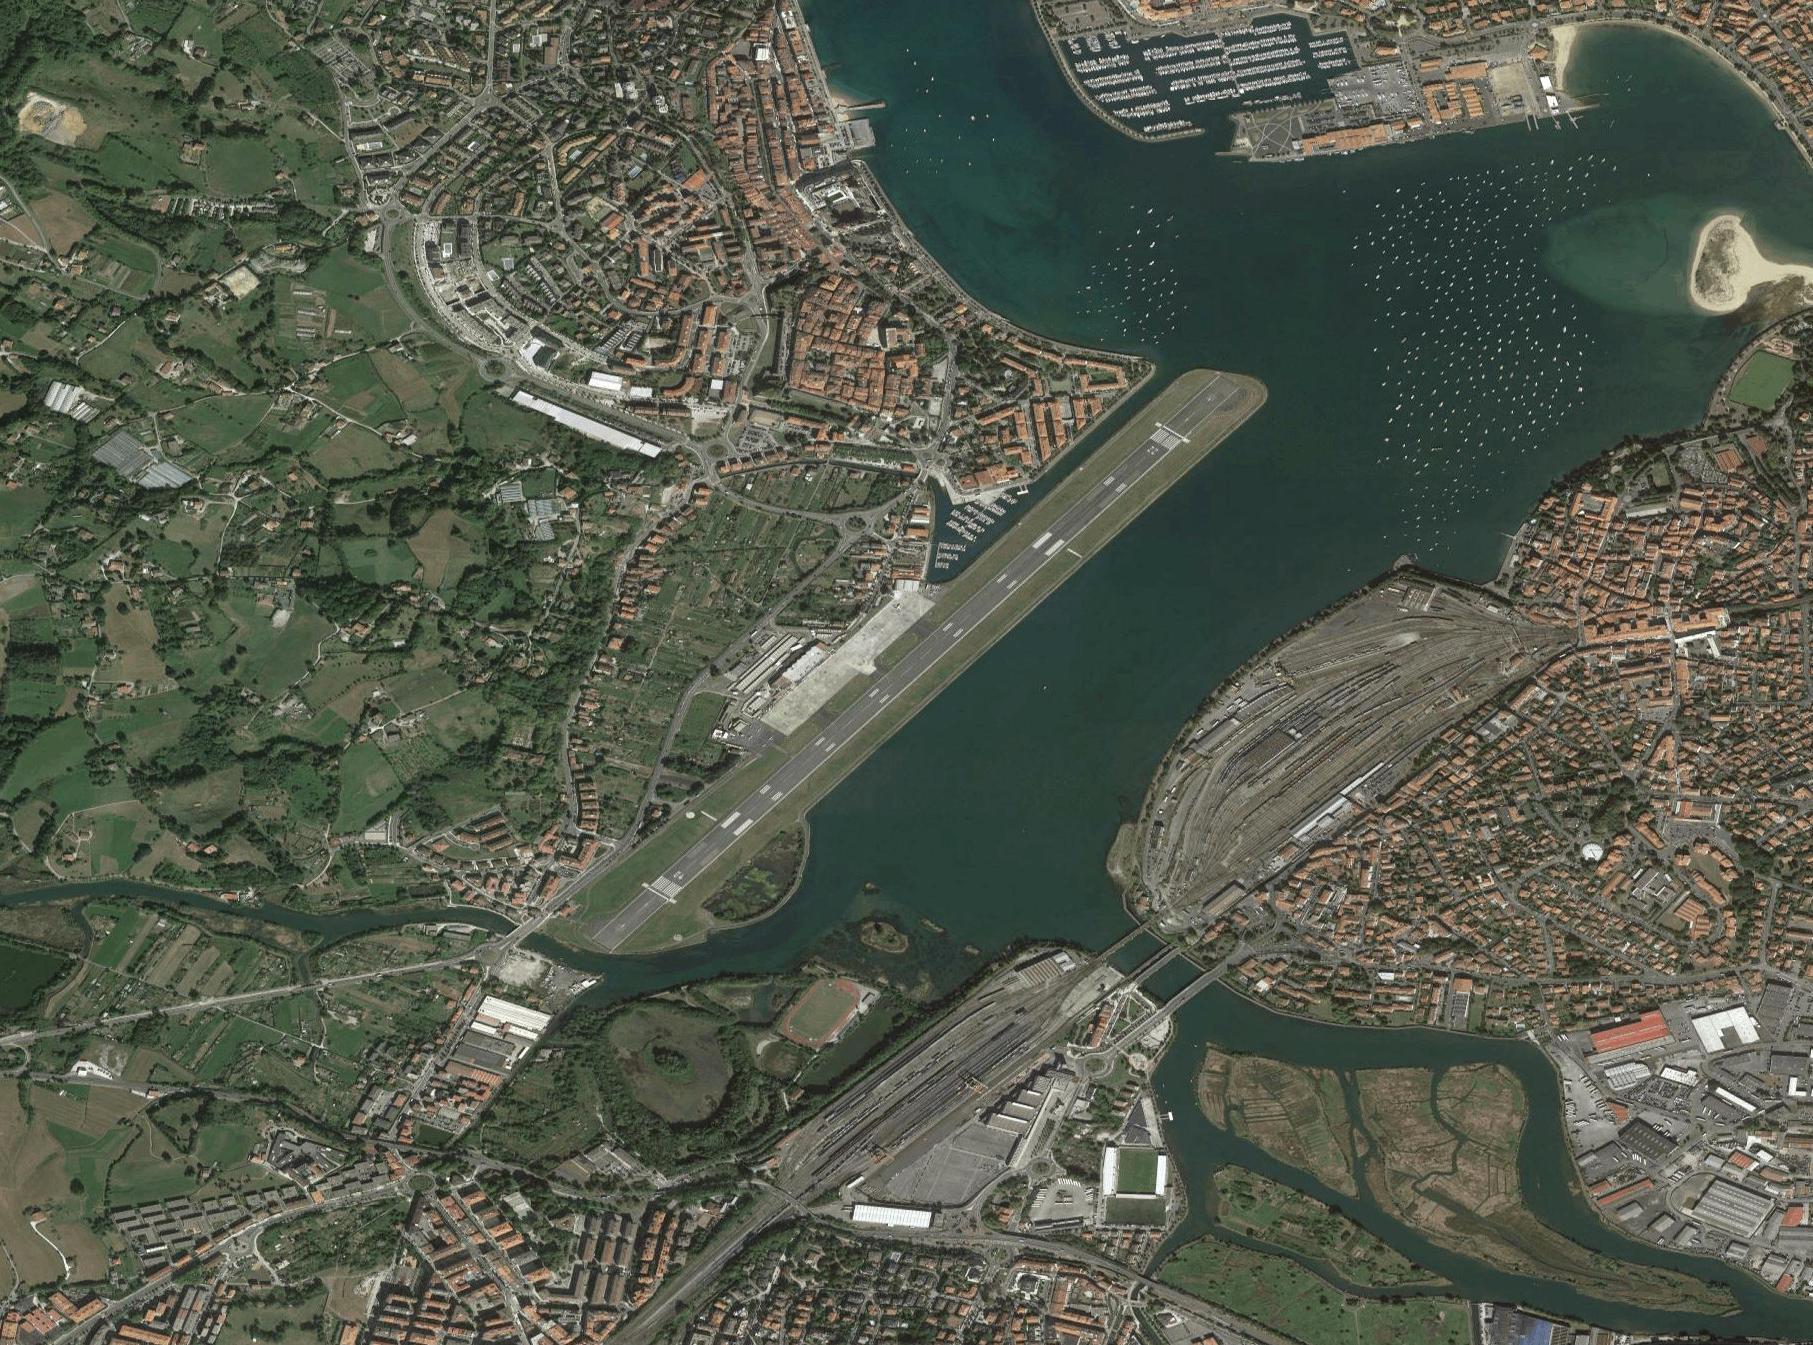airport: (577, 370, 1246, 962)
train_station: (1139, 589, 1563, 925), (787, 969, 1092, 1216)
